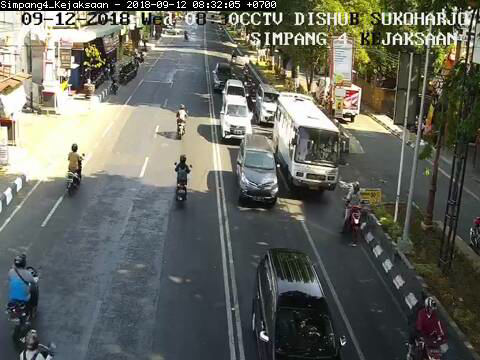motor: (407, 297, 449, 360), (342, 183, 366, 241)
